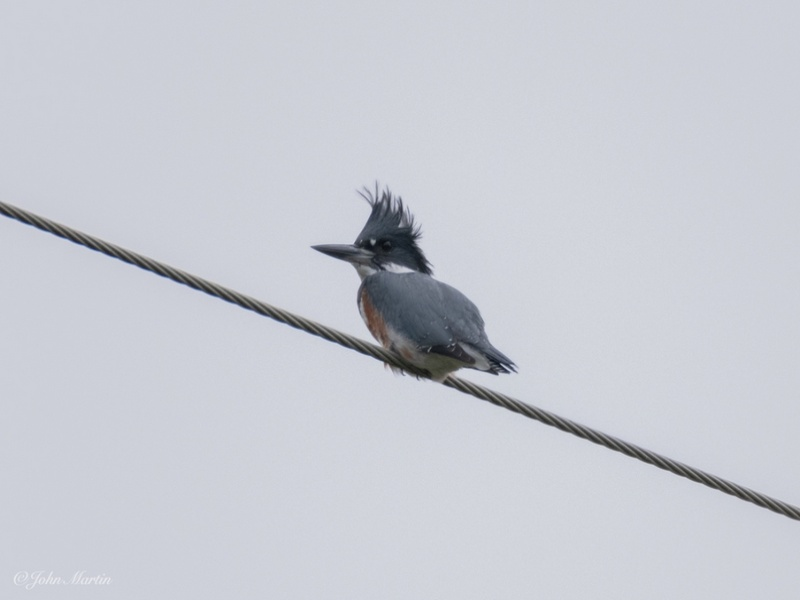kingfisher: (307, 177, 519, 396)
